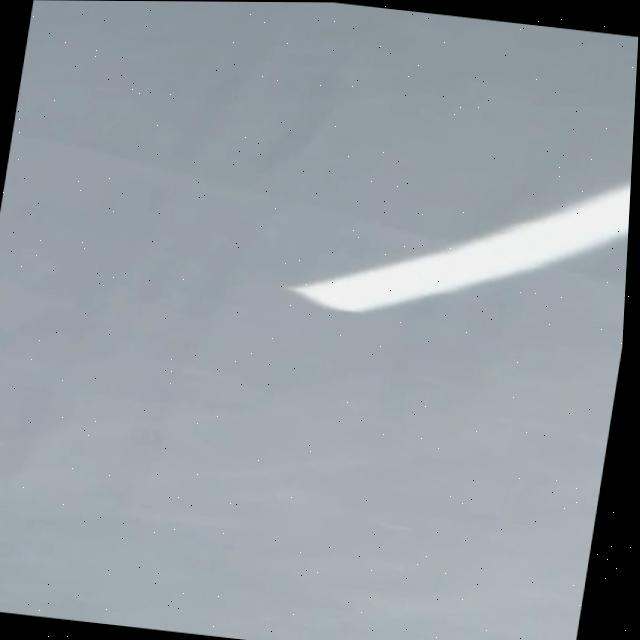center: (288, 182, 631, 311)
